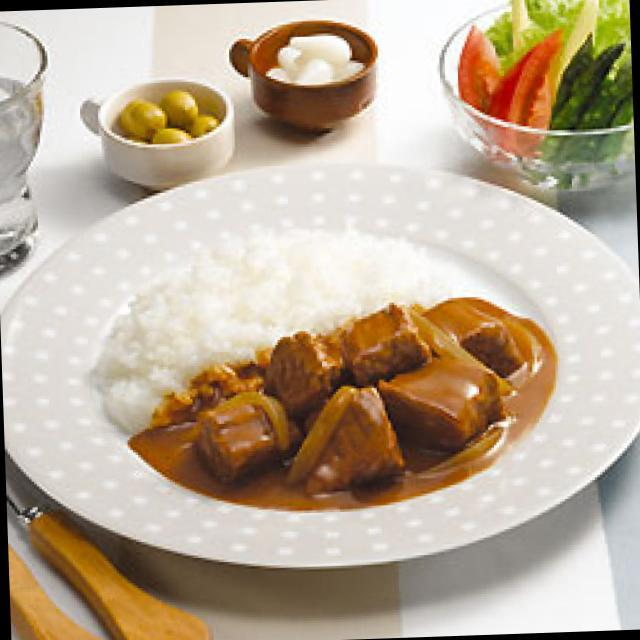Beef Curry: (140, 314, 556, 521)
